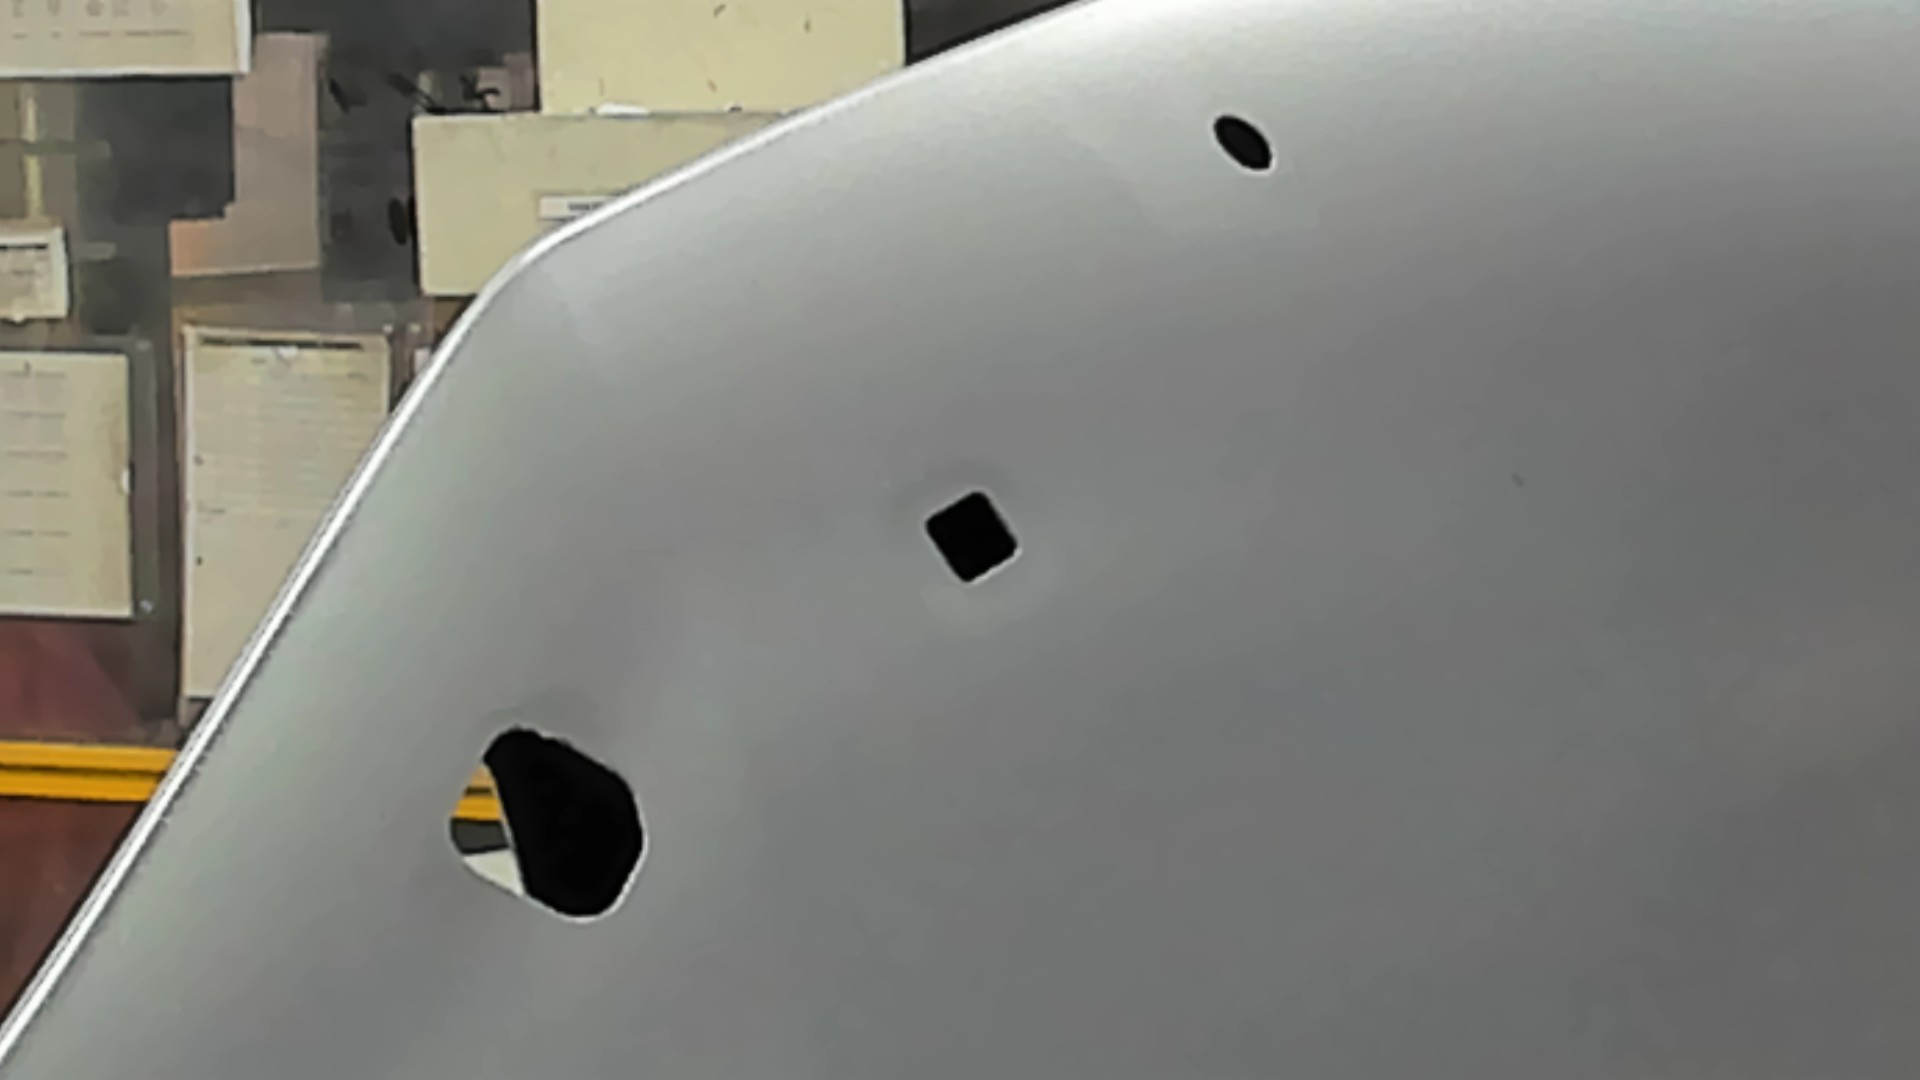chico: (1211, 111, 1276, 171)
grande: (444, 720, 653, 922)
mediano: (922, 487, 1023, 584)
